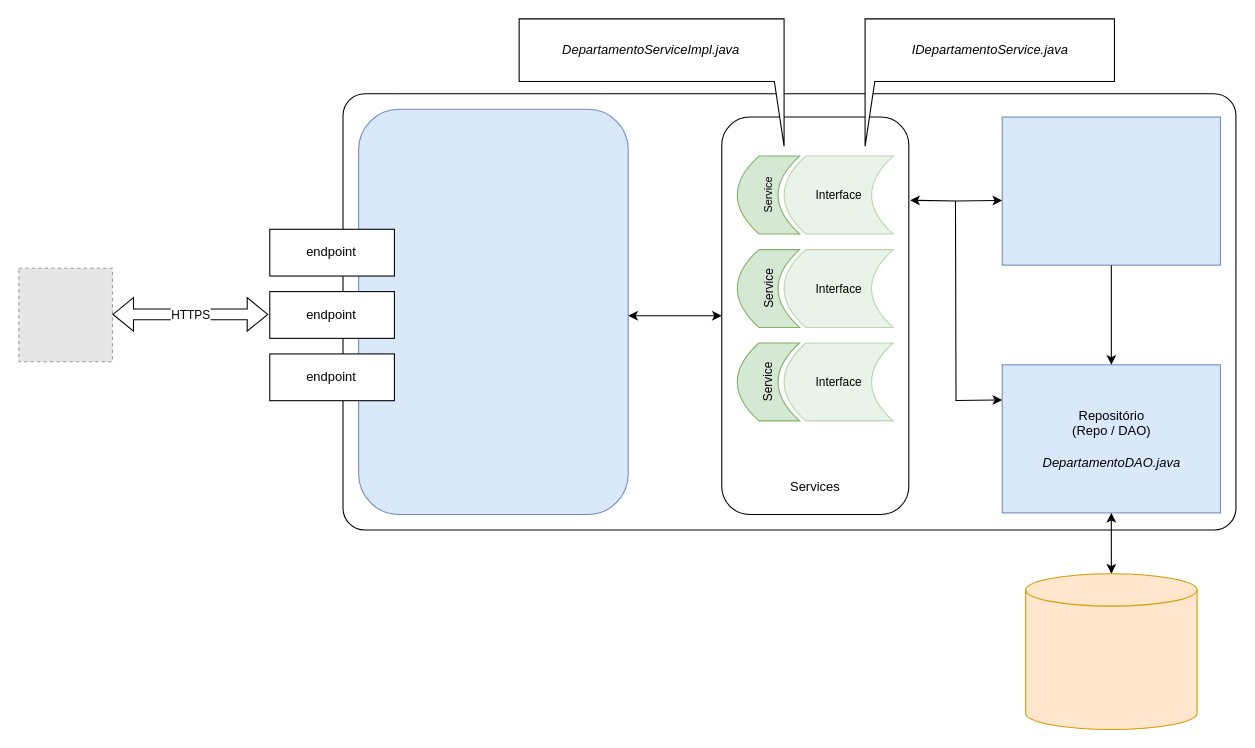
This 1255x748 diagram has some shape labels left out. Grey dashed boxes stand in for pictures. The shapes that lost their labels are listed below. From the top down, each one's box as (x1, y1, x2, y2) in pixels, then its label:
(1001, 116, 1220, 265): Model Departamento.java
(358, 108, 628, 515): DepartamentoController.java Controller
(1025, 573, 1197, 730): MySQL ecommerce.mysql
